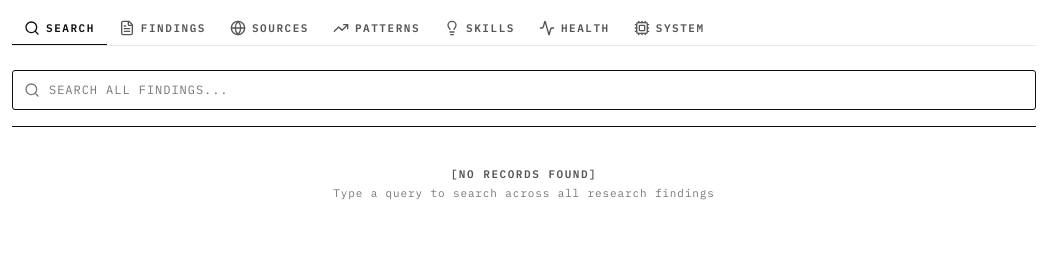
ExploreTabs › searches after debounce and shows result, empty, and error states
Expected: the text "[NO RECORDS FOUND]" is shown, top-left (451, 166), bottom-right (597, 180)
Step 1. Type "agents" into the field with placeholder "SEARCH ALL FINDINGS..." → (524, 90), box top-left (12, 70), bottom-right (1036, 110)
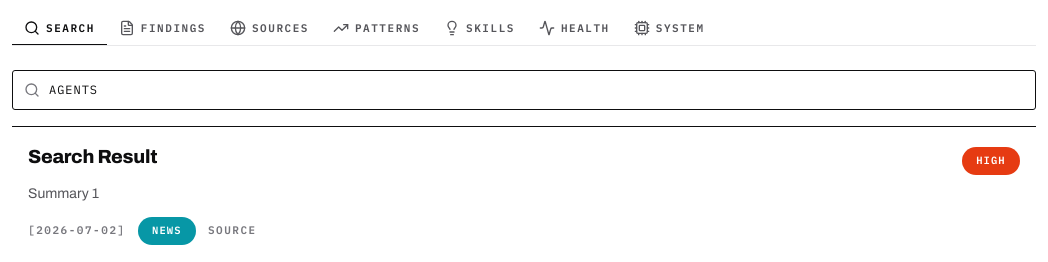
Now the link "Search Result" is shown, box top-left (28, 146), bottom-right (157, 166)
Step 2. Replace the text in the field with placeholder "SEARCH ALL FINDINGS..." with "none" → (524, 90), box top-left (12, 70), bottom-right (1036, 110)
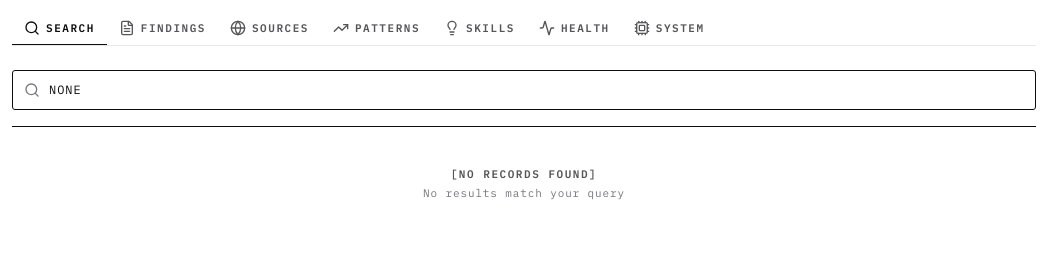
Now the text "No results match your query" is shown, box top-left (423, 186), bottom-right (625, 200)
Step 3. Replace the text in the field with placeholder "SEARCH ALL FINDINGS..." with "broken" → (524, 90), box top-left (12, 70), bottom-right (1036, 110)
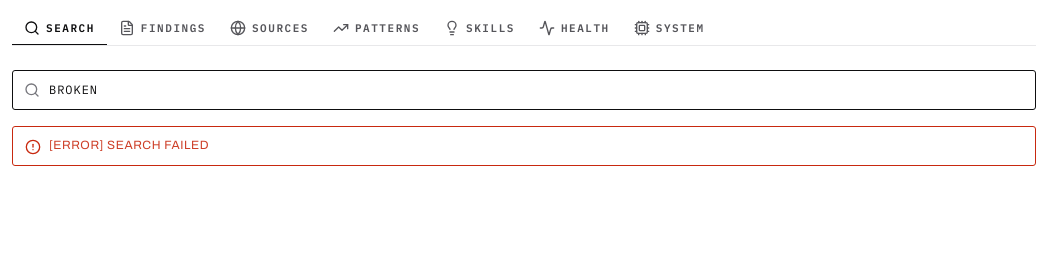
Now the text "[ERROR] Search failed" is shown, box top-left (49, 138), bottom-right (209, 152)
